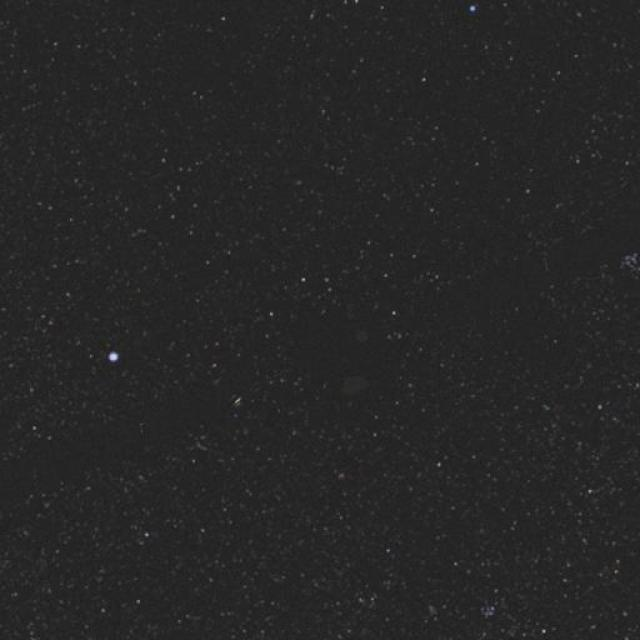smart_1: (268, 296, 428, 428)
